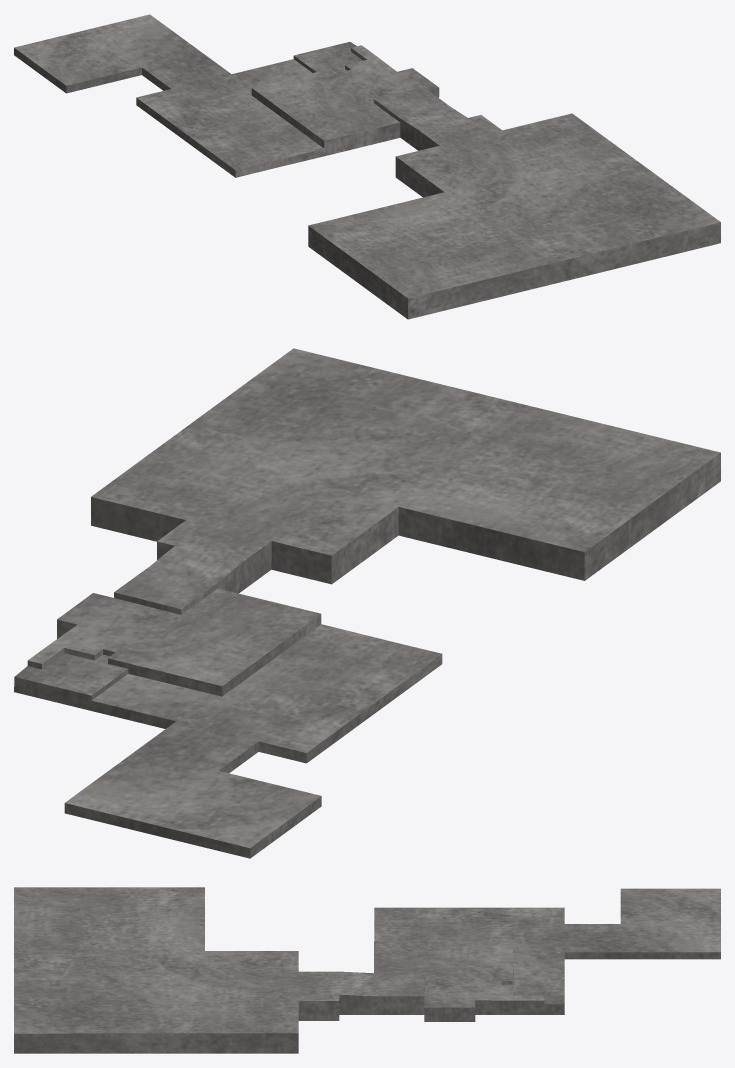
File: SM_QuarterFloor_01.fbx
3 renders of one model, top to bottom at view 1: azimuth 30°, elevation 25°; view 2: azimuth 150°, elevation 25°; view 3: azimuth 270°, elevation 25°, orthographic. The views are drawn at different scales.
Visible parts, largest first — view 1: SM_QuarterFloor_01; view 2: SM_QuarterFloor_01; view 3: SM_QuarterFloor_01.
Part boxes in pixels (left/top/right/bottom): SM_QuarterFloor_01: left=14, top=14, right=720, bottom=319; SM_QuarterFloor_01: left=14, top=348, right=720, bottom=858; SM_QuarterFloor_01: left=14, top=887, right=720, bottom=1053.
Bounding box in the file's own units: 931 × 55.5 × 1765.
1 material, 1 textured.
